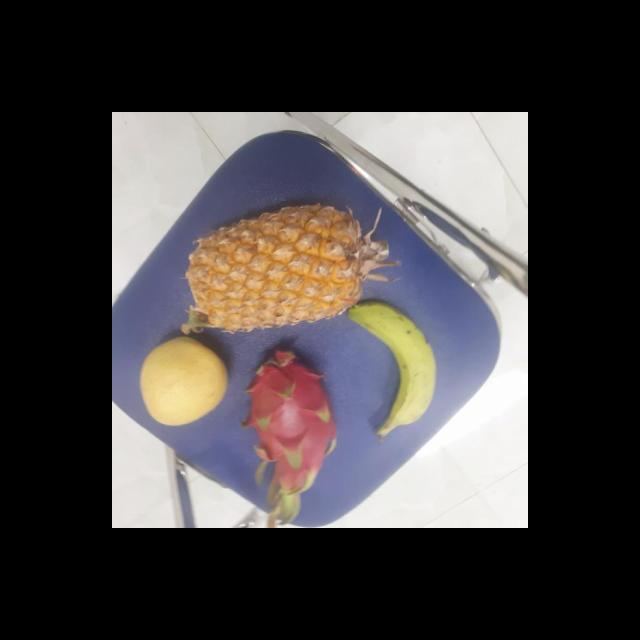banana: (349, 304, 442, 442)
guava: (139, 338, 233, 426)
pineapple: (192, 205, 384, 326)
pitaya: (238, 354, 338, 454)
